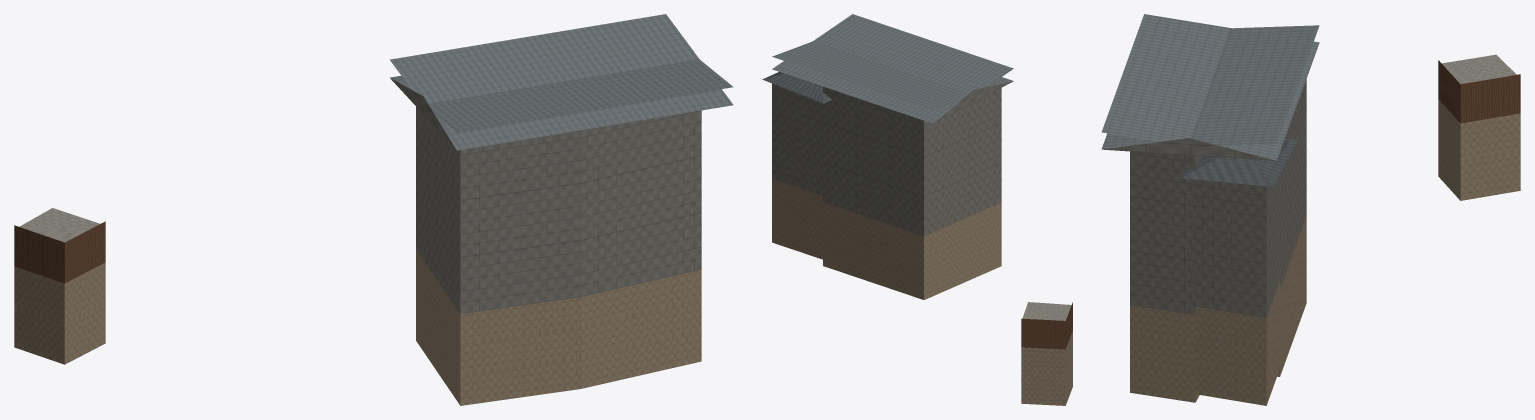
The model's file is bld_c21_45_395.gltf.
3 views of the same model, side by side, from view 1: azimuth 30°, elevation 25°; view 2: azimuth 150°, elevation 25°; view 3: azimuth 270°, elevation 25° (orthographic). The views are drawn at different scales.
Parts seen in each view (by area): view 1: bld_c21_45_395; view 2: bld_c21_45_395; view 3: bld_c21_45_395.
Boxes of the visible parts, x1,y1,x2,y2 form: bld_c21_45_395: [14, 14, 733, 405]; bld_c21_45_395: [762, 14, 1072, 405]; bld_c21_45_395: [1101, 14, 1520, 405].
Size of the model in its own units: 32.09 by 15.9 by 22.07.
8 materials, 8 textured.
